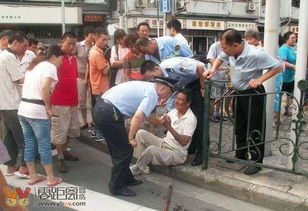10+: (2, 19, 305, 183)
down: (129, 88, 198, 177)
